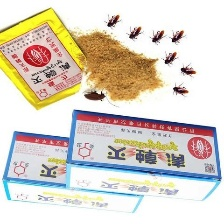book: (60, 104, 224, 207), (0, 128, 149, 214)
insecticide: (0, 7, 92, 111)
